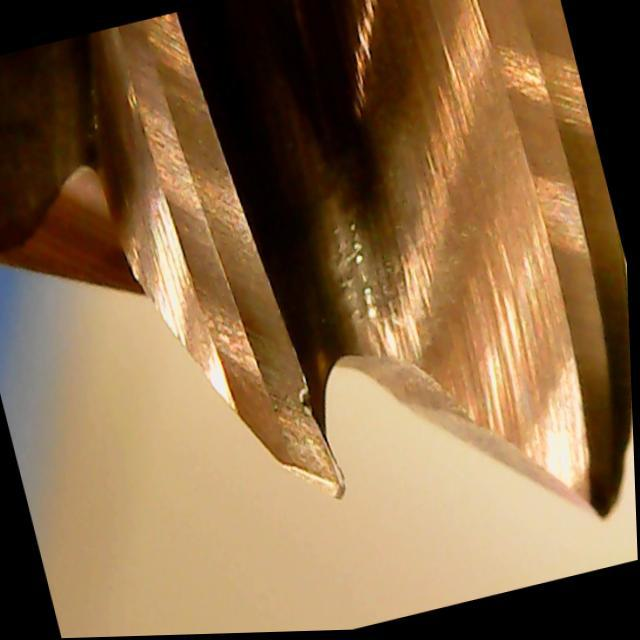Tool-wear-class-1: (197, 276, 375, 540)
